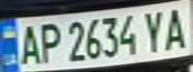2: (63, 17, 87, 62)
3: (100, 12, 121, 59)
4: (118, 10, 142, 56)
6: (81, 15, 106, 61)
A: (160, 3, 193, 52), (12, 20, 42, 66)
P: (36, 19, 63, 65)
Y: (139, 7, 169, 54)
